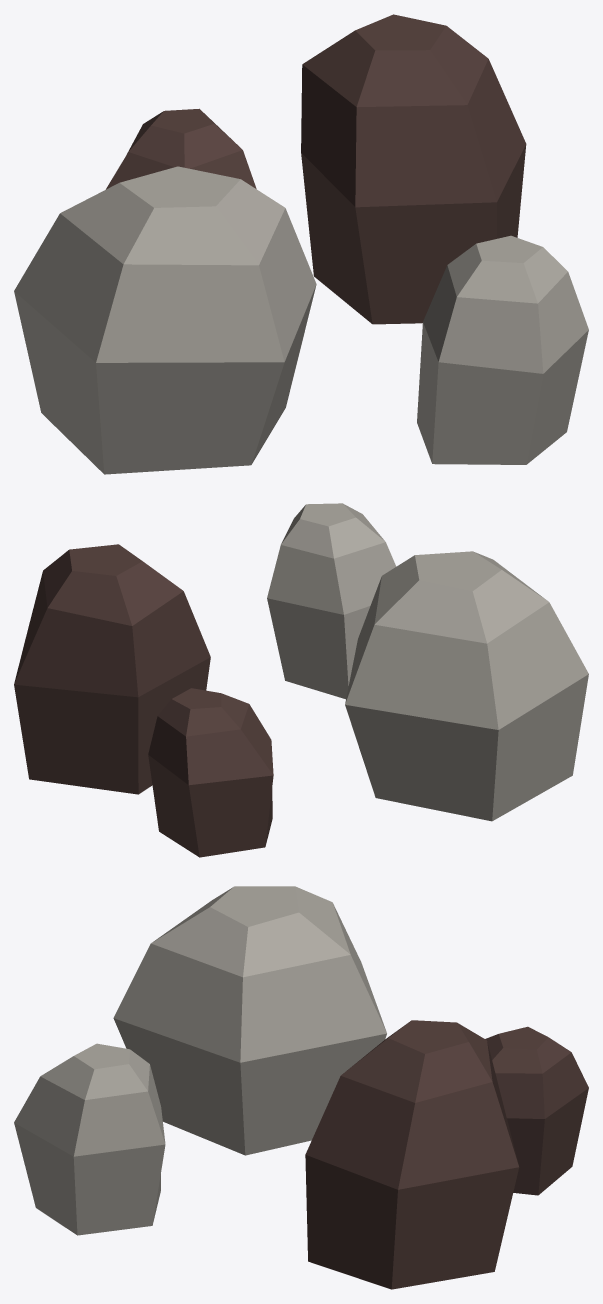
File: site_rock3.fbx
The picture shows the model from 3 angles, top to bottom: view 1: azimuth 30°, elevation 25°; view 2: azimuth 150°, elevation 25°; view 3: azimuth 270°, elevation 25°; orthographic projection. The views are drawn at different scales.
Visible parts, largest first — view 1: a1022/0/site_rock3; view 2: a1022/0/site_rock3; view 3: a1022/0/site_rock3.
Boxes of the visible parts, x1,y1,x2,y2 form: a1022/0/site_rock3: (14, 14, 588, 474); a1022/0/site_rock3: (14, 503, 588, 857); a1022/0/site_rock3: (14, 886, 588, 1289).
Size of the model in its own units: 3.13 by 1.33 by 3.24.
